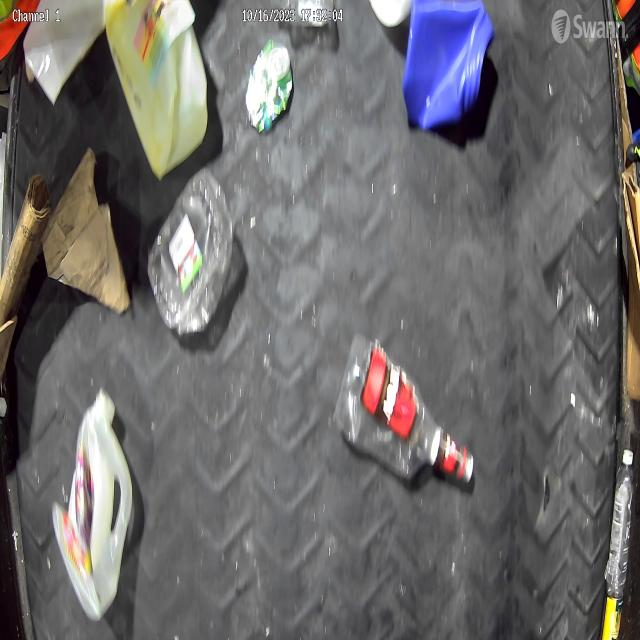milk_jug: (50, 390, 133, 621), (102, 0, 207, 176)
non_white_jug: (402, 6, 493, 124)
